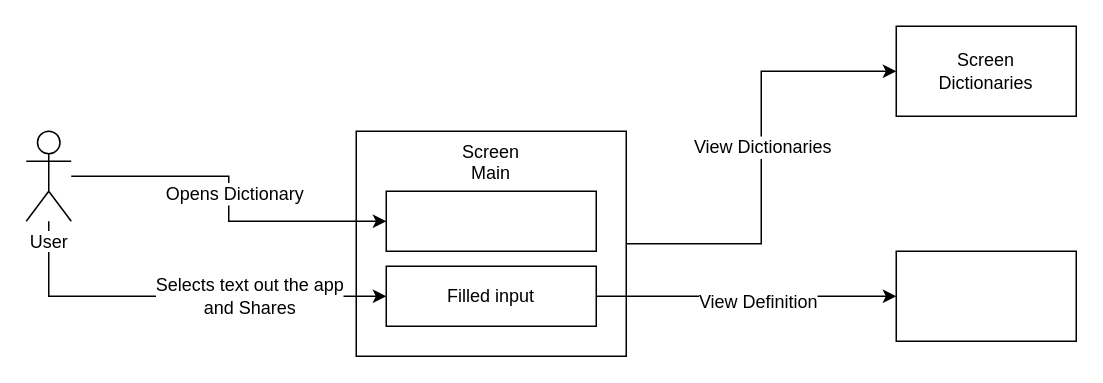
Image size: 1103x383. Some labels were removed from this diagram. Each missing label, with the box of its shape:
Empty or last input: (385, 190, 596, 251)
Screen Definition: (895, 250, 1076, 341)
